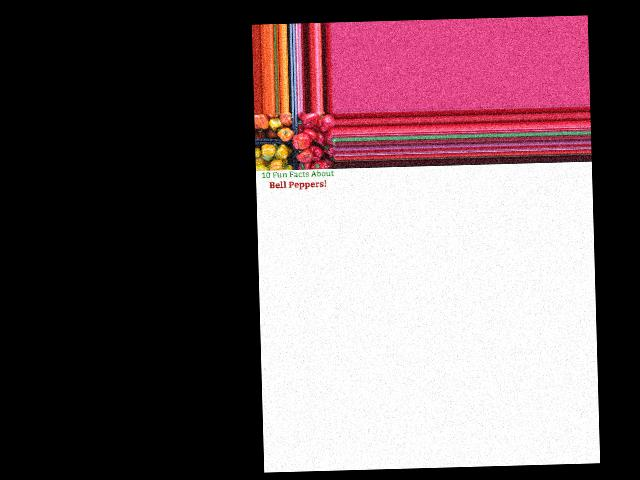bell_pepper: (306, 157, 328, 171)
